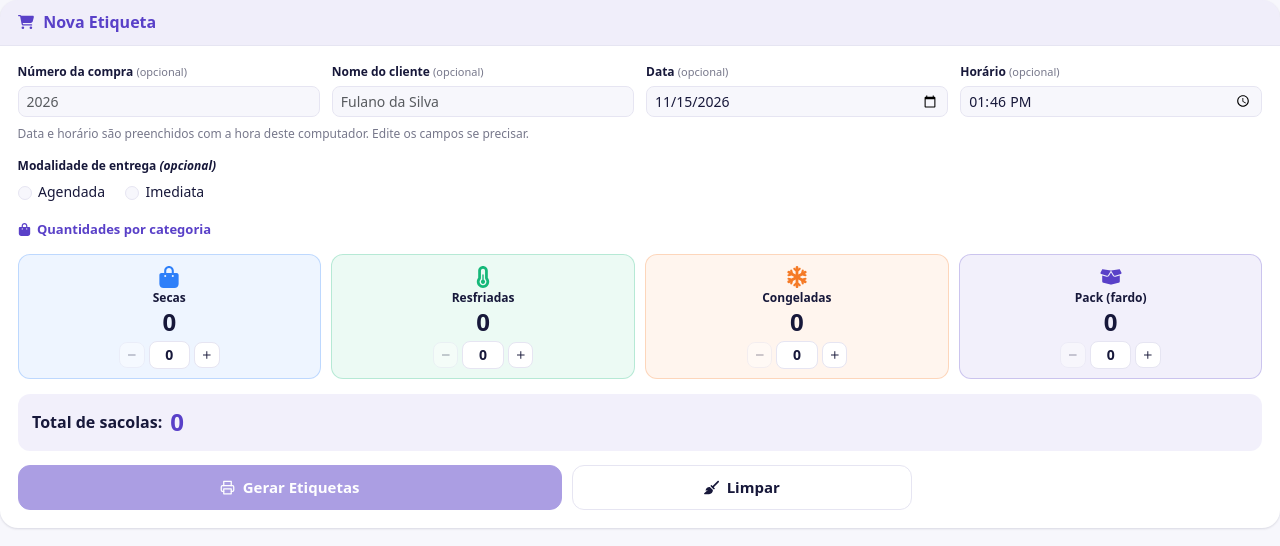
Scenario: OrderForm › atualiza o total e habilita a geração ao aumentar uma categoria
Click the button named "Aumentar secas": (207, 355) [194,342,220,368]
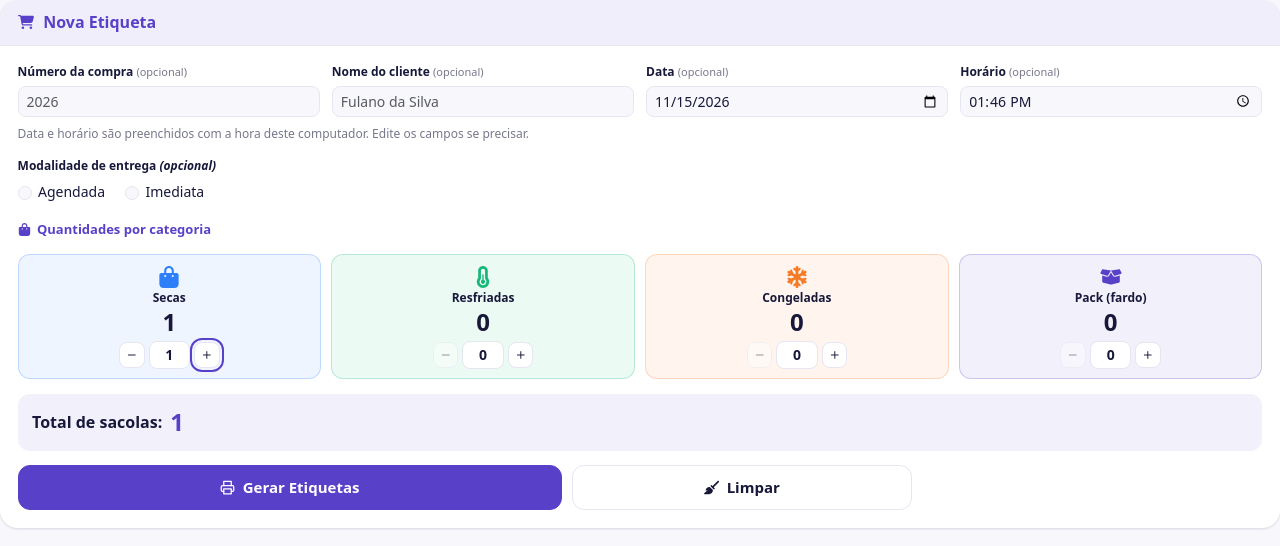
expect the text "Total de sacolas: 1" is shown: met, box [18,394,1262,450]
expect the button "Gerar Etiquetas" is enabled: met, box [18,465,562,510]
